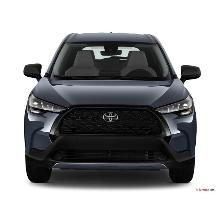NON-EV: (24, 31, 204, 188)
